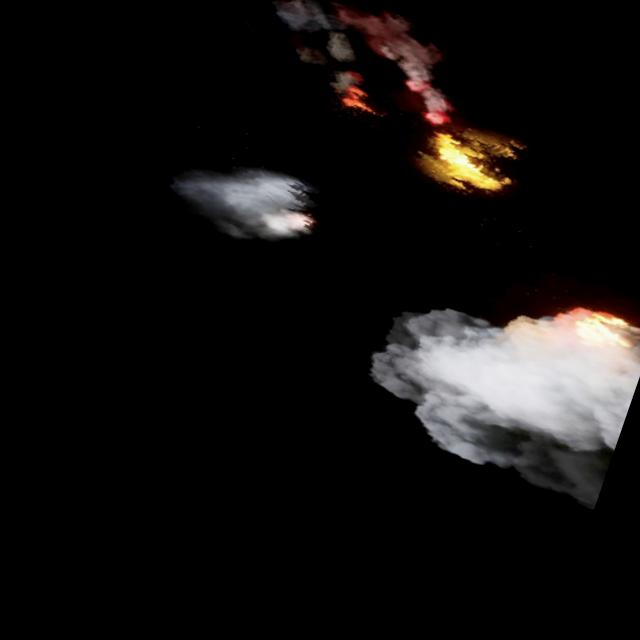fire: (420, 131, 513, 198), (566, 296, 634, 356)
smoke: (349, 258, 640, 503), (232, 0, 492, 142), (175, 146, 322, 254)
